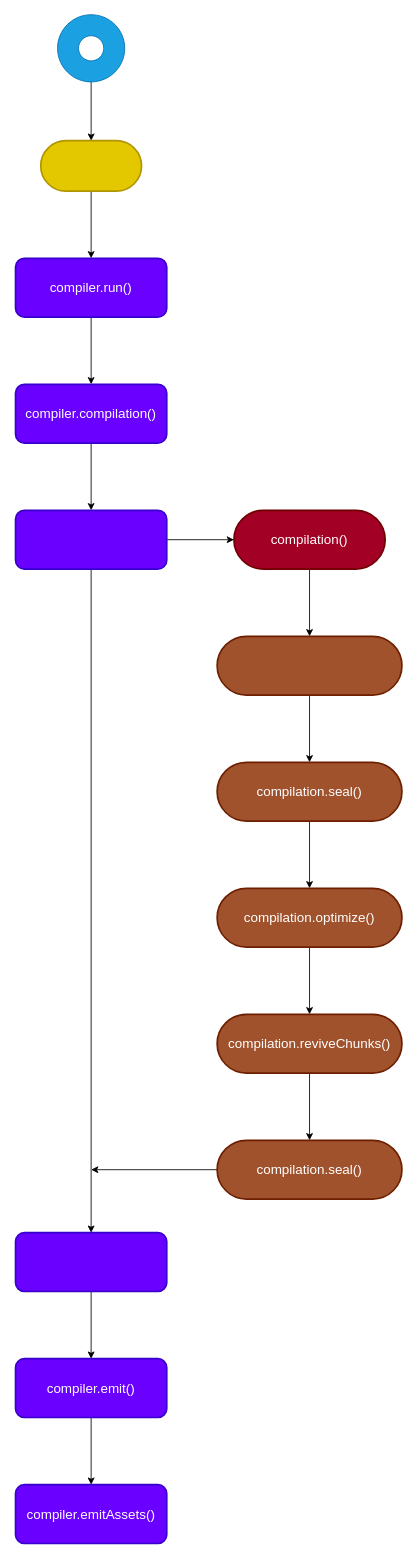
Some shapes in this 417 by 1559 pixel diagram are drawn without their labels. The shapes that lost their labels are listed below. From the top down, each one's box as (x1, y1, x2, y2) in pixels, then its label:
(39, 139, 142, 192): Compiler
(14, 509, 167, 570): compiler.make()
(216, 635, 402, 696): compilation.buildModule()
(14, 1231, 167, 1292): compiler.afterCompile()
